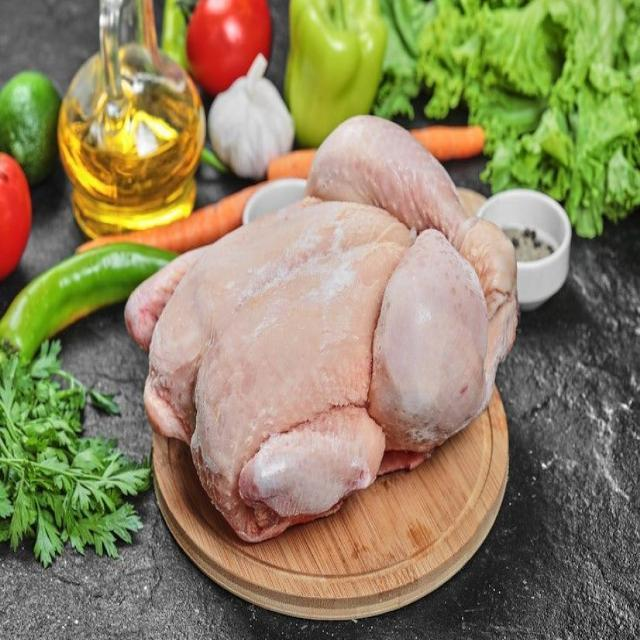Chicken: (102, 100, 534, 555)
